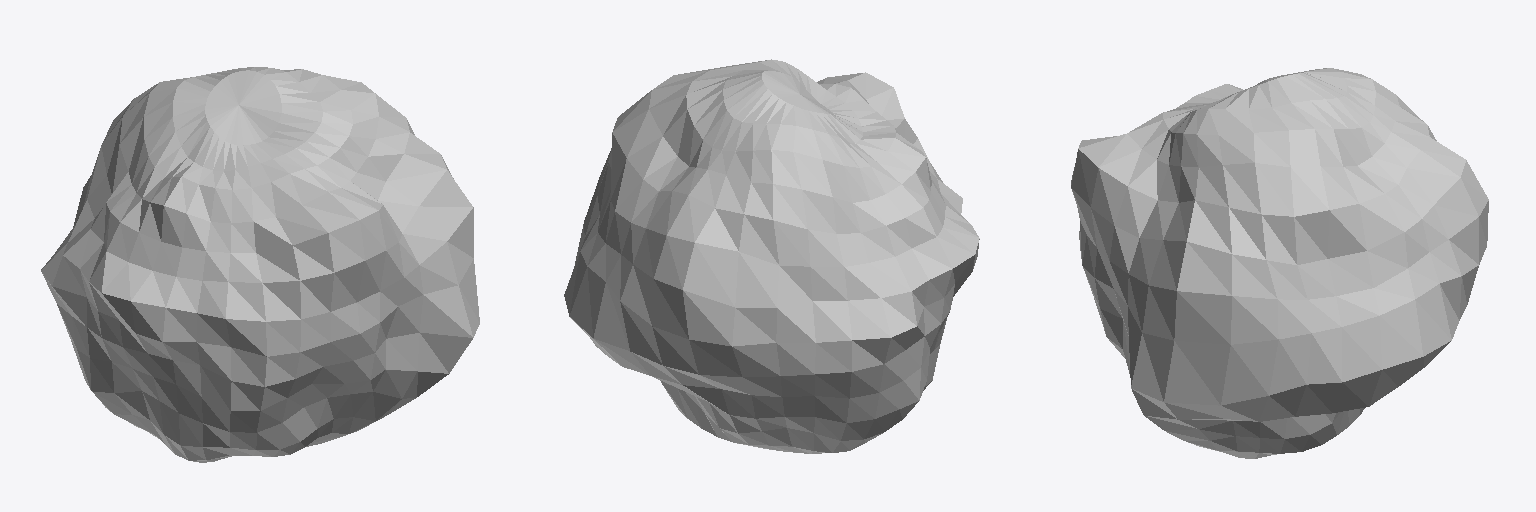
Rendered from meteor.obj.
3 views of the same model, side by side, from view 1: azimuth 30°, elevation 25°; view 2: azimuth 150°, elevation 25°; view 3: azimuth 270°, elevation 25° (orthographic).
Visible parts, largest first — view 1: Sphere; view 2: Sphere; view 3: Sphere.
Part boxes in pixels (left/top/right/bottom): Sphere: left=41, top=67, right=479, bottom=462; Sphere: left=564, top=59, right=979, bottom=453; Sphere: left=1071, top=68, right=1488, bottom=458.
Bounding box in the file's own units: 2.73 × 2.62 × 2.74.